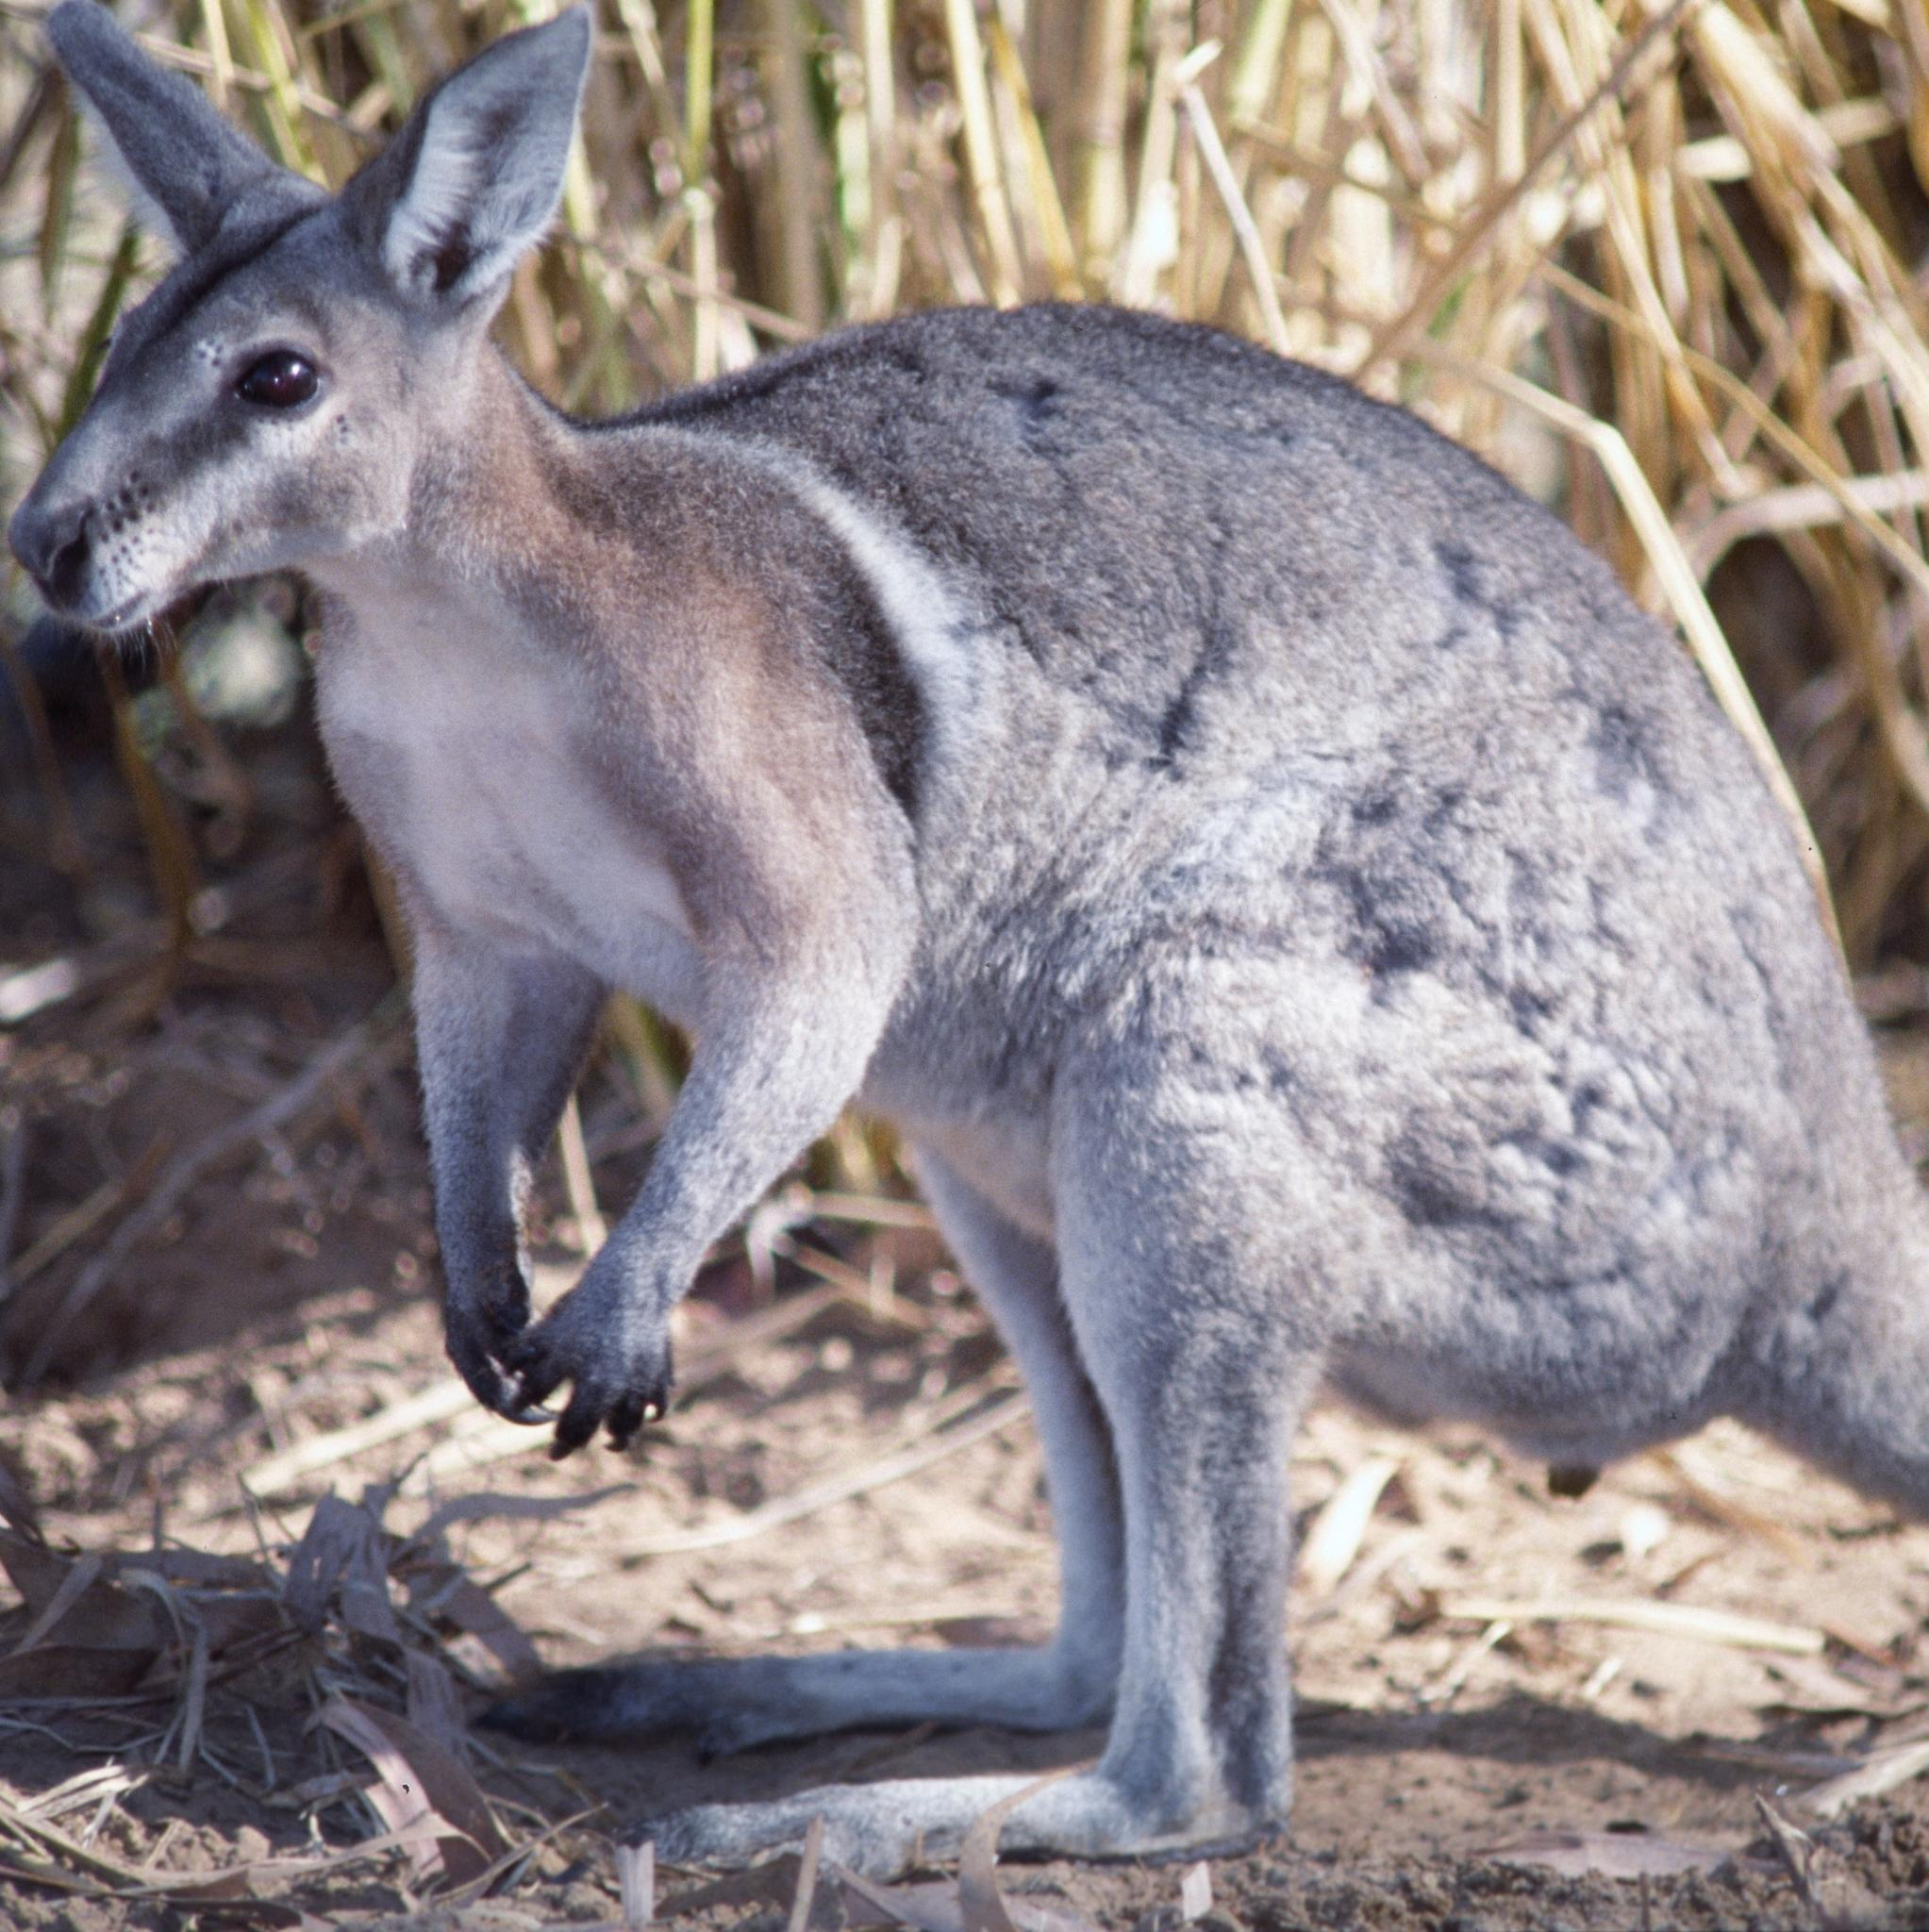Bridled-nail-tail wallaby: (7, 12, 1929, 1897)
